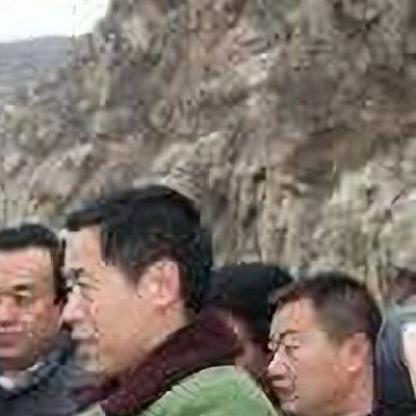hardHat: (55, 169, 208, 377), (205, 260, 297, 388), (0, 213, 72, 365), (1, 1, 1, 1)
